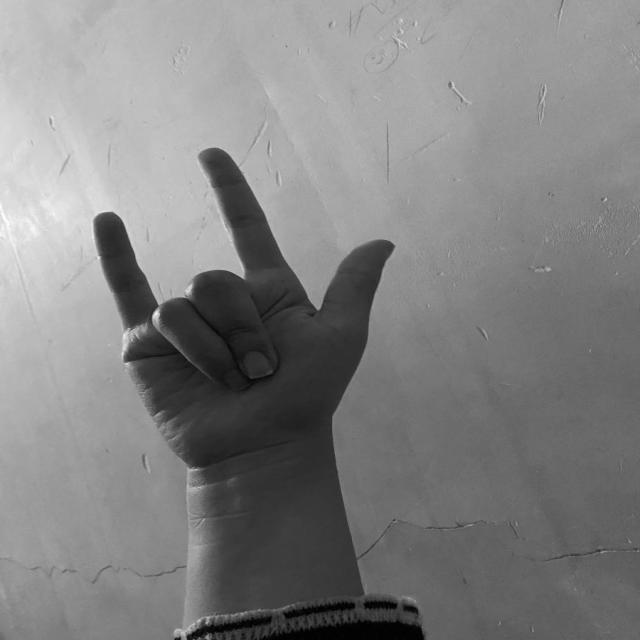i love you: (81, 140, 404, 479)
